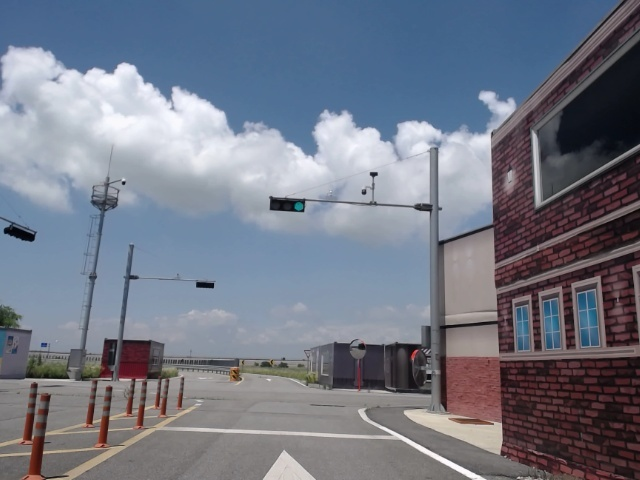green_3: (269, 195, 304, 209)
